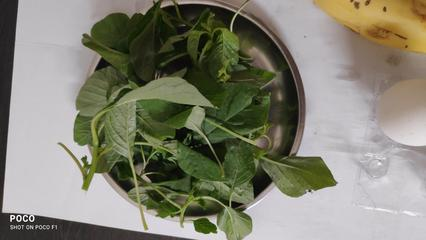spinach: (105, 29, 254, 191)
